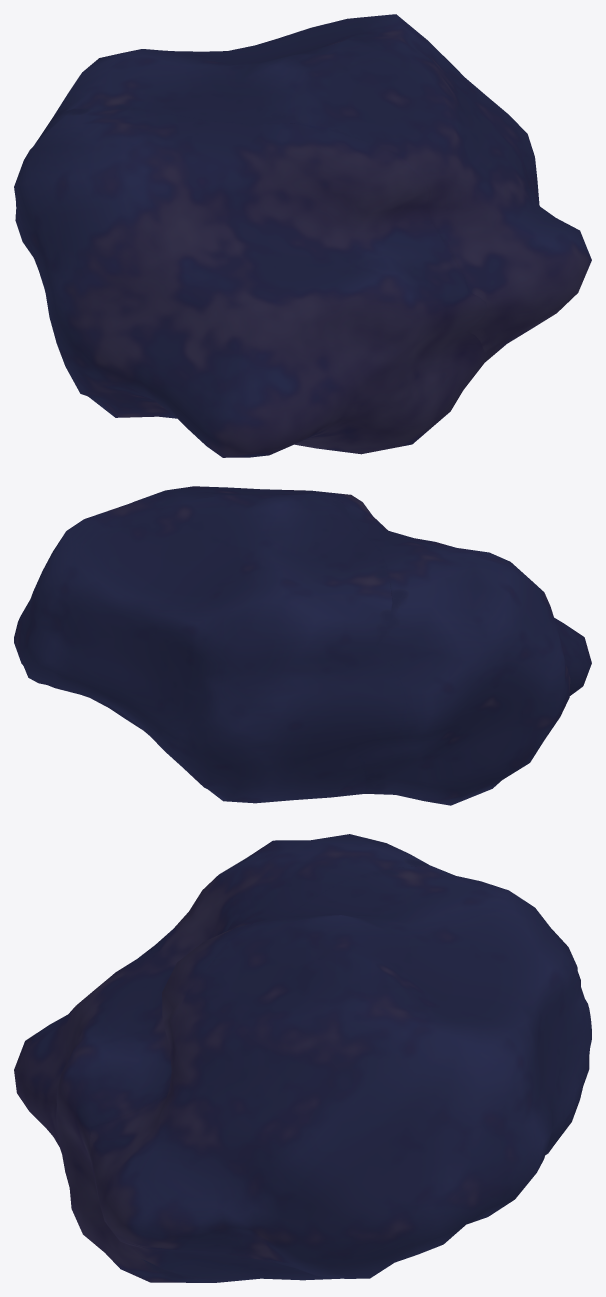
File: Rock-asset.glb
3 views of the same model, one above another, from view 1: azimuth 30°, elevation 25°; view 2: azimuth 150°, elevation 25°; view 3: azimuth 270°, elevation 25° (orthographic). The views are drawn at different scales.
Parts seen in each view (by area): view 1: Sphere; view 2: Sphere; view 3: Sphere.
Part boxes in pixels (x1,y1,x2,y2): Sphere: [14, 14, 591, 457]; Sphere: [14, 486, 591, 805]; Sphere: [14, 834, 591, 1282].
Bounding box in the file's own units: 2.06 × 1.25 × 1.87.
Materials: 1 (1 with a texture image).
